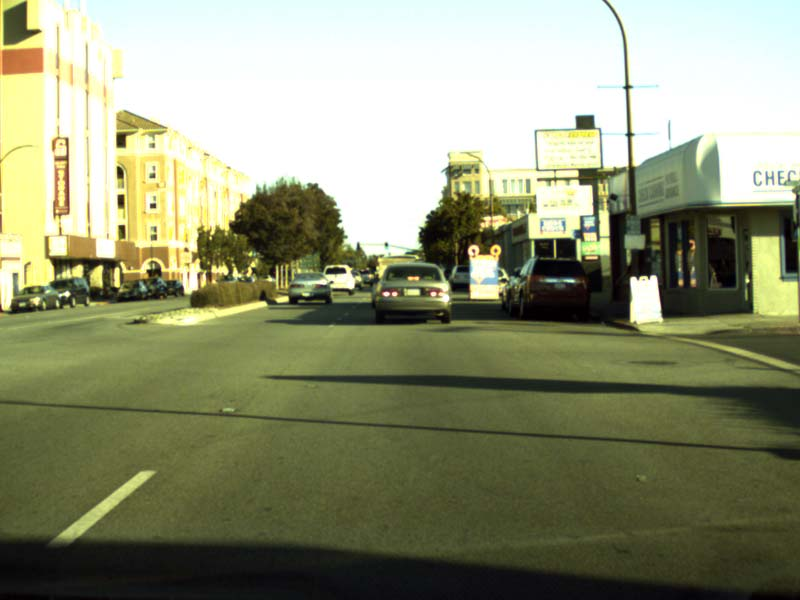Green: (384, 243, 388, 248)
